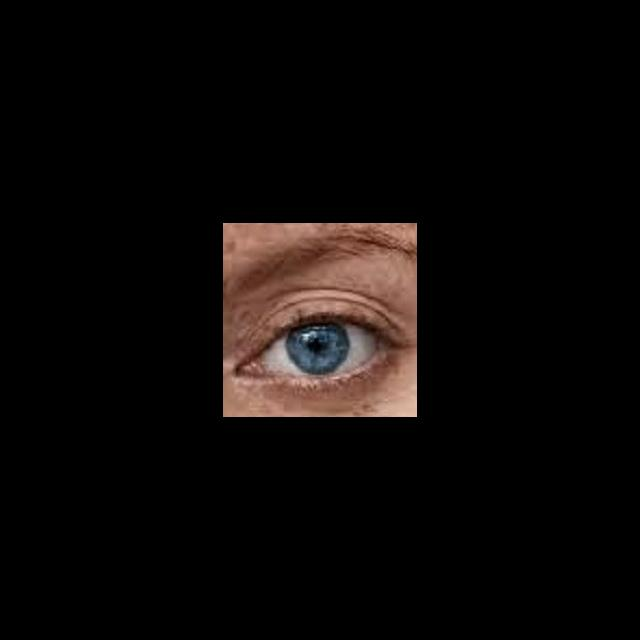eye: (259, 322, 379, 379)
iris: (285, 325, 350, 374)
